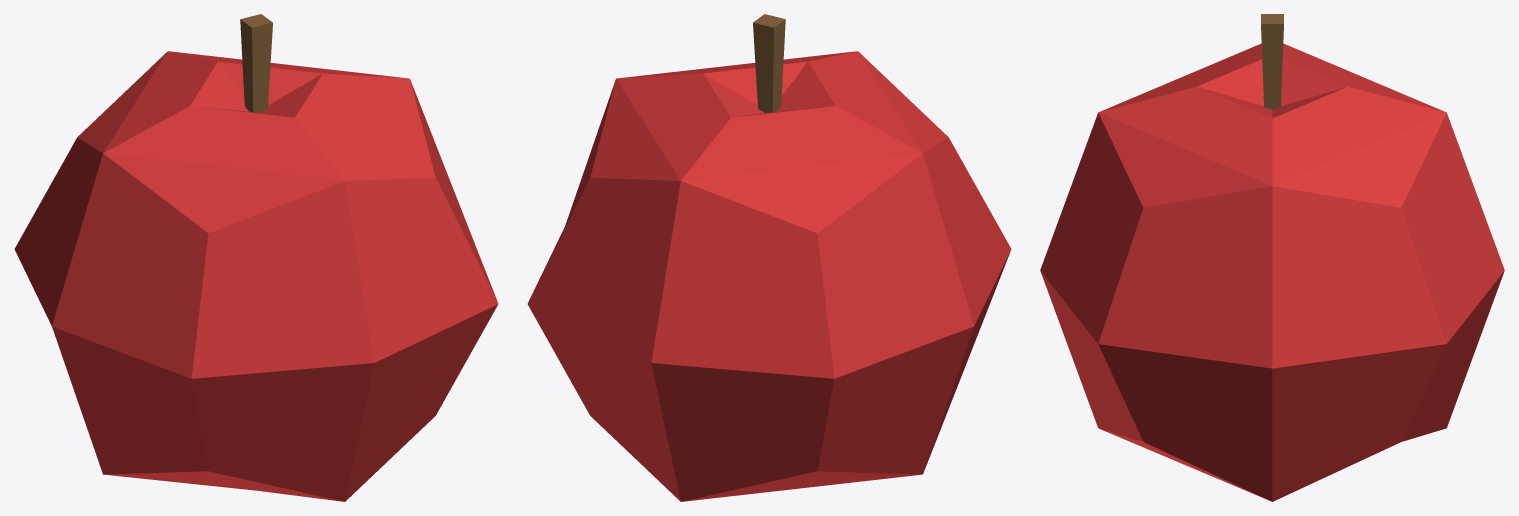
The model's file is Apple_1_1.fbx.
3 renders of one model, left to right at view 1: azimuth 30°, elevation 25°; view 2: azimuth 150°, elevation 25°; view 3: azimuth 270°, elevation 25°, orthographic.
Parts seen in each view (by area): view 1: Apple_1_1; view 2: Apple_1_1; view 3: Apple_1_1.
Part boxes in pixels (<box>): Apple_1_1: <box>14,14,498,501</box>; Apple_1_1: <box>527,14,1011,501</box>; Apple_1_1: <box>1040,14,1504,501</box>.
Bounding box in the file's own units: 4.74 × 5.2 × 4.74.
